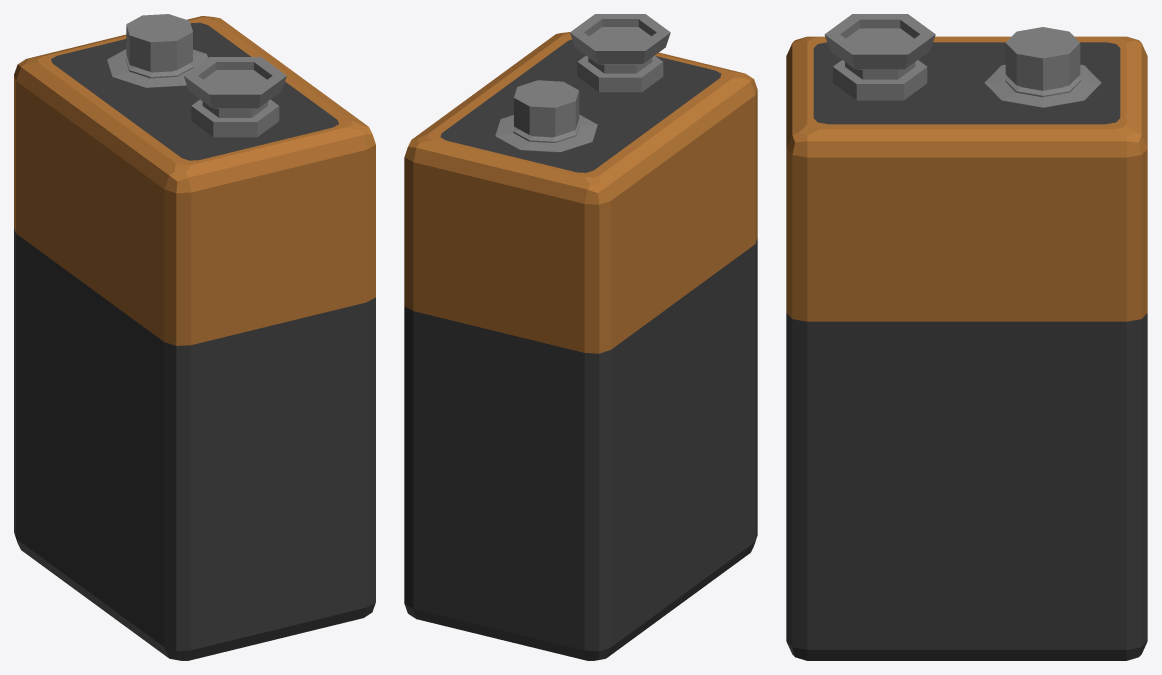
File: battery.fbx
The picture shows the model from 3 angles, left to right: view 1: azimuth 30°, elevation 25°; view 2: azimuth 150°, elevation 25°; view 3: azimuth 270°, elevation 25°; orthographic projection. The views are drawn at different scales.
Parts seen in each view (by area): view 1: Cube, Cylinder, Cylinder.001; view 2: Cube, Cylinder, Cylinder.001; view 3: Cube, Cylinder, Cylinder.001.
Part boxes in pixels (x1,y1,x2,y2): Cube: (14, 16, 375, 660); Cylinder: (184, 57, 286, 137); Cylinder.001: (107, 14, 207, 87); Cube: (404, 32, 757, 660); Cylinder: (570, 14, 670, 92); Cylinder.001: (495, 80, 597, 152); Cube: (786, 36, 1147, 660); Cylinder: (824, 14, 935, 100); Cylinder.001: (984, 27, 1101, 107).
Size of the model in its own units: 84.99 by 209 by 118.
